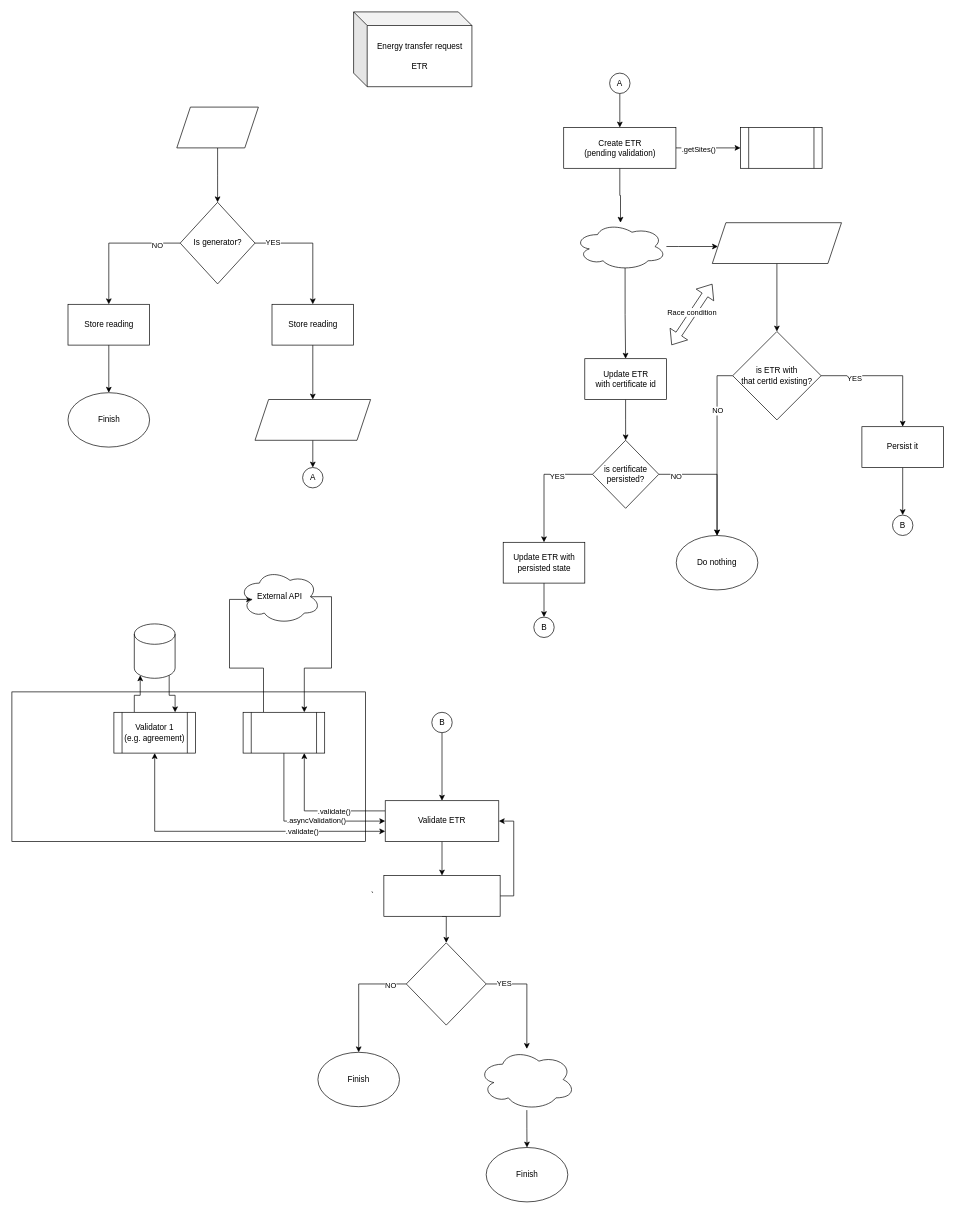
The diagram is 955 pixels wide and 1214 high, and some of its shapes have lost their labels. Each missing label, with the box of its shape:
Certificate persisted event: (712, 222, 842, 264)
Database: (134, 623, 175, 678)
Everything valid?: (406, 942, 486, 1025)
Generation reading event: (254, 399, 371, 440)
Issue certificate: (574, 222, 666, 270)
Reading: (176, 106, 258, 148)
Site entity (e.g. agreement): (740, 127, 822, 168)
Store validation result for each validator: (383, 875, 500, 916)
STRATEGIES: (11, 691, 366, 842)
Transfer certificate: (478, 1048, 575, 1110)
Validator 2 (stateful) (e.g. EOEB): (242, 712, 325, 753)
